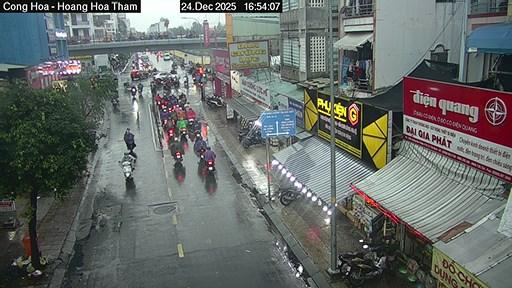motorbike: (336, 238, 387, 274), (348, 252, 386, 286), (278, 188, 300, 205), (240, 133, 265, 147), (120, 160, 133, 180), (205, 95, 224, 108), (167, 126, 178, 139), (197, 148, 204, 166), (173, 152, 182, 166), (205, 160, 214, 171), (179, 127, 186, 140), (111, 98, 118, 109), (124, 81, 130, 90), (184, 81, 188, 88), (131, 89, 134, 95), (131, 86, 135, 89)
